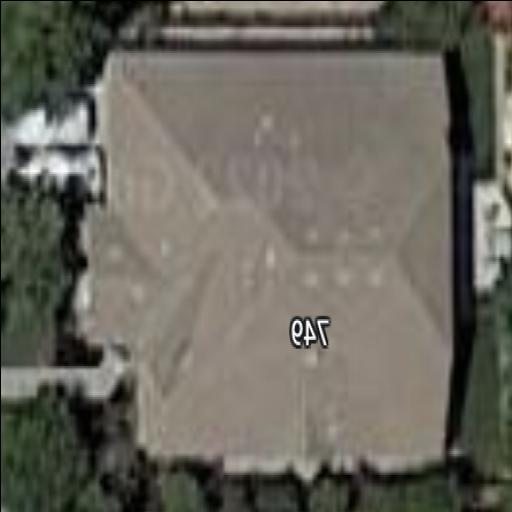Slope-Roof: (82, 53, 459, 462)
